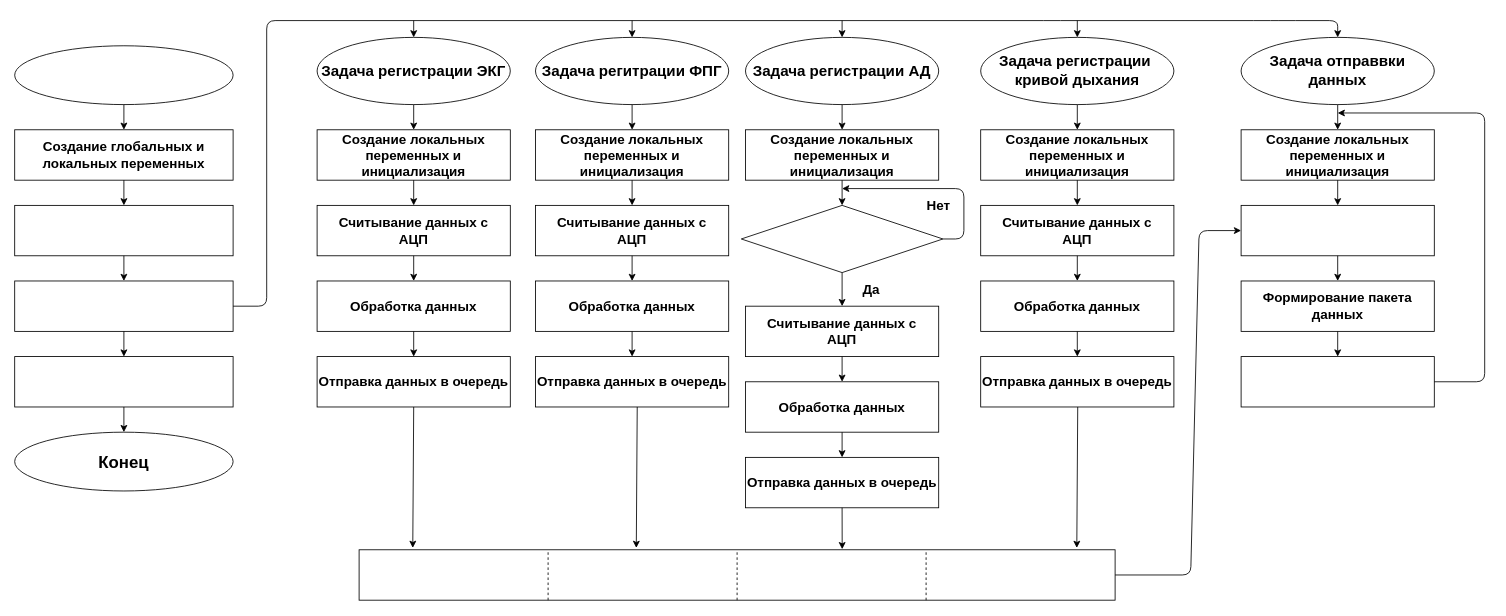
Some shapes in this 1506 by 616 pixel diagram are drawn without their labels. The shapes that lost their labels are listed below. From the top down, each one's box as (x1, y1, x2, y2) in pixels, then its label:
(14, 45, 233, 105): main()
(14, 205, 233, 256): Инициализация периферийных устройств микроконтроллера
(740, 205, 943, 273): Получена команда на измерение АД
(1240, 205, 1434, 256): Считывание данных из очереди
(14, 280, 233, 331): Создание задач
(14, 356, 233, 407): Диспетчер ОСРВ
(1240, 356, 1434, 407): Отправка пакета на медицинский компьютер
(358, 549, 1115, 600): Очередь данных
